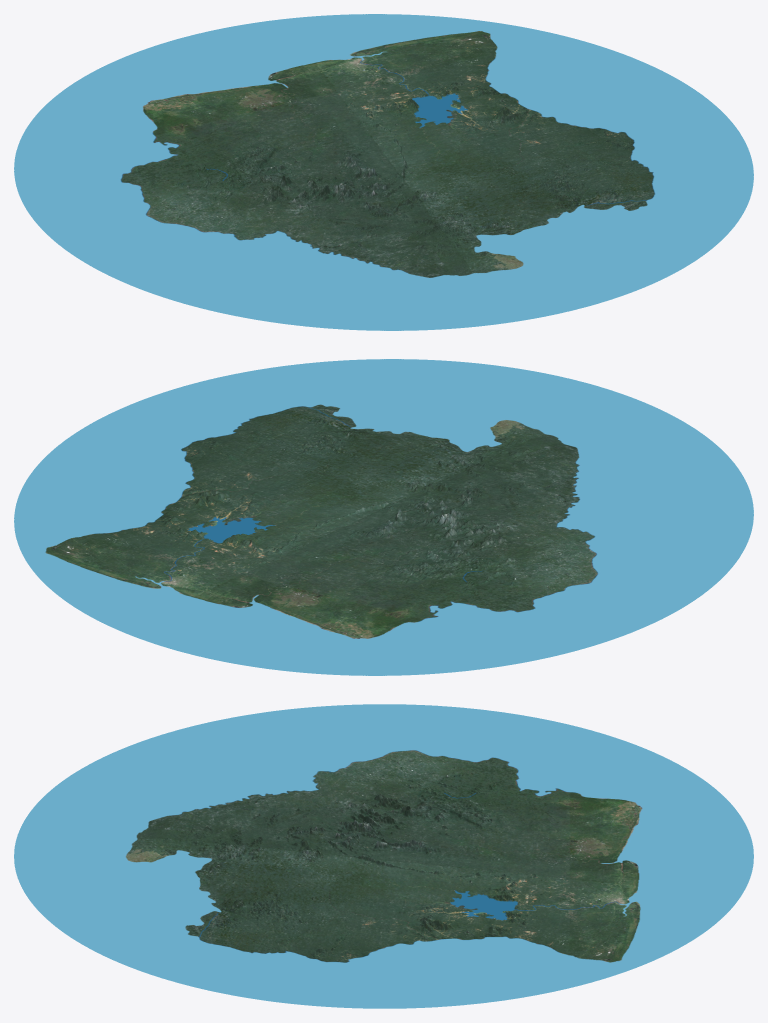
The model's file is SUR-previa-terrain.glb.
3 views of the same model, one above another, from view 1: azimuth 30°, elevation 25°; view 2: azimuth 150°, elevation 25°; view 3: azimuth 270°, elevation 25° (orthographic).
Visible parts, largest first — view 1: Suriname; view 2: Suriname; view 3: Suriname.
Part boxes in pixels (left/top/right/bottom): Suriname: left=14, top=14, right=753, bottom=330; Suriname: left=14, top=359, right=753, bottom=675; Suriname: left=14, top=704, right=753, bottom=1008.
Bounding box in the file's own units: 2.45 × 0.0383 × 2.52.
1 material, 1 textured.
